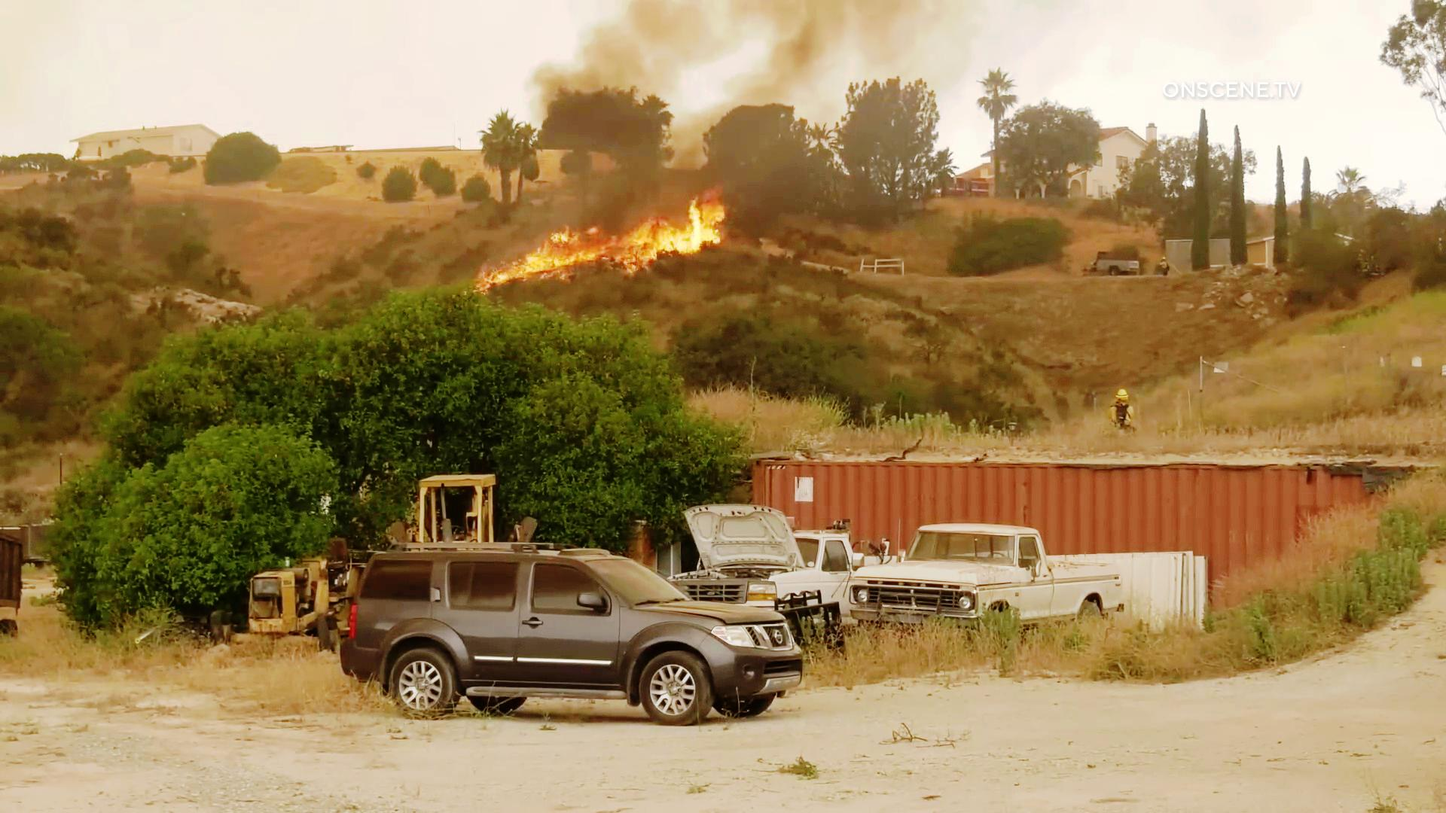fire: (471, 190, 740, 291)
smoke: (627, 0, 962, 72)
